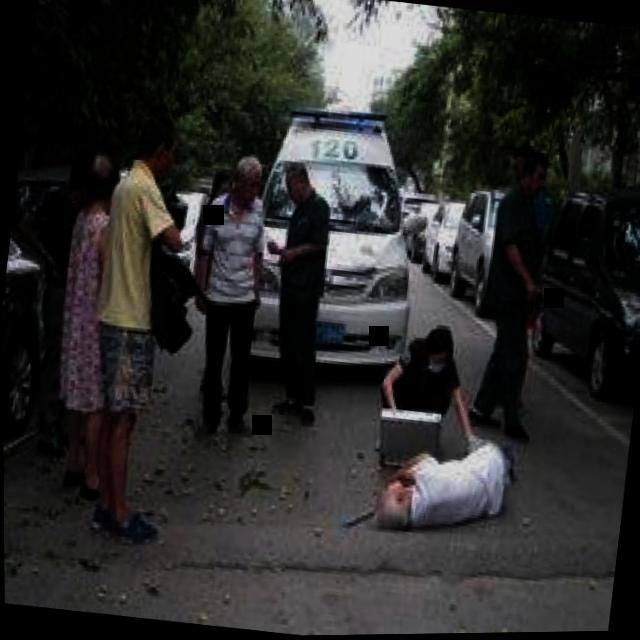Fall-Detected: (364, 404, 524, 549)
